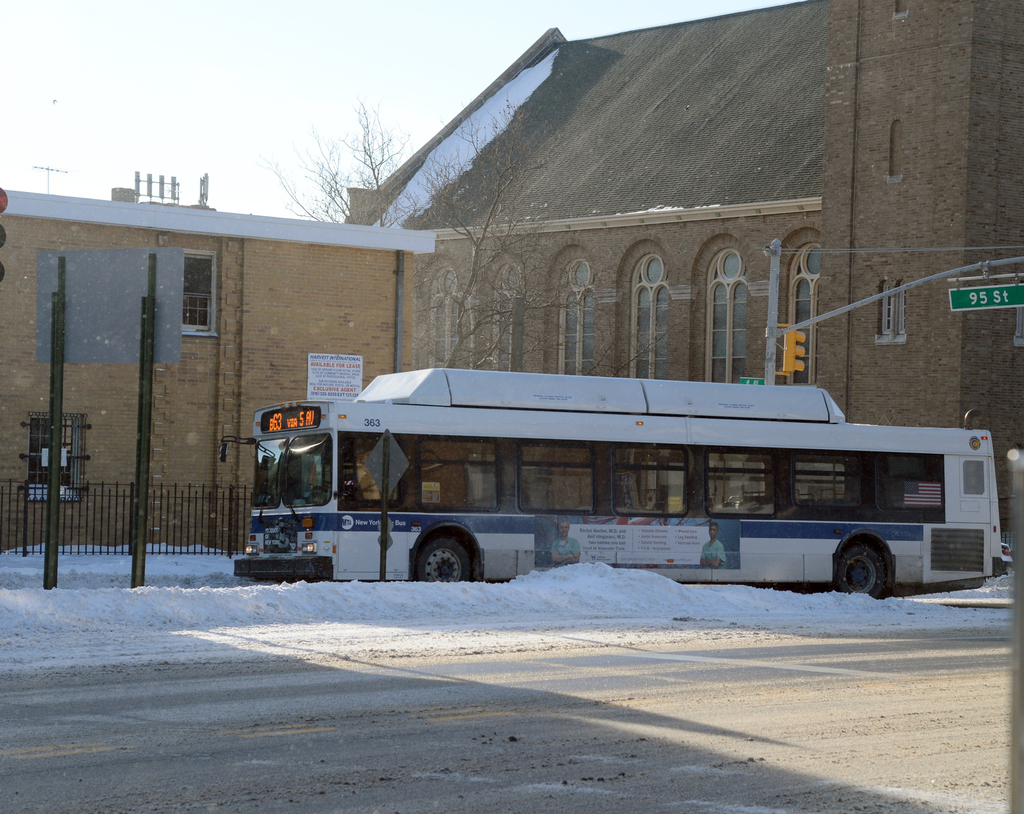Bus: (215, 357, 1007, 603)
